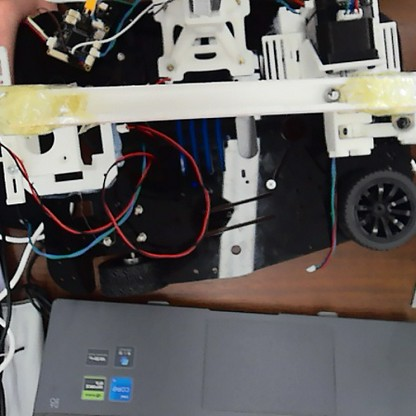ironball: (322, 83, 340, 102)
